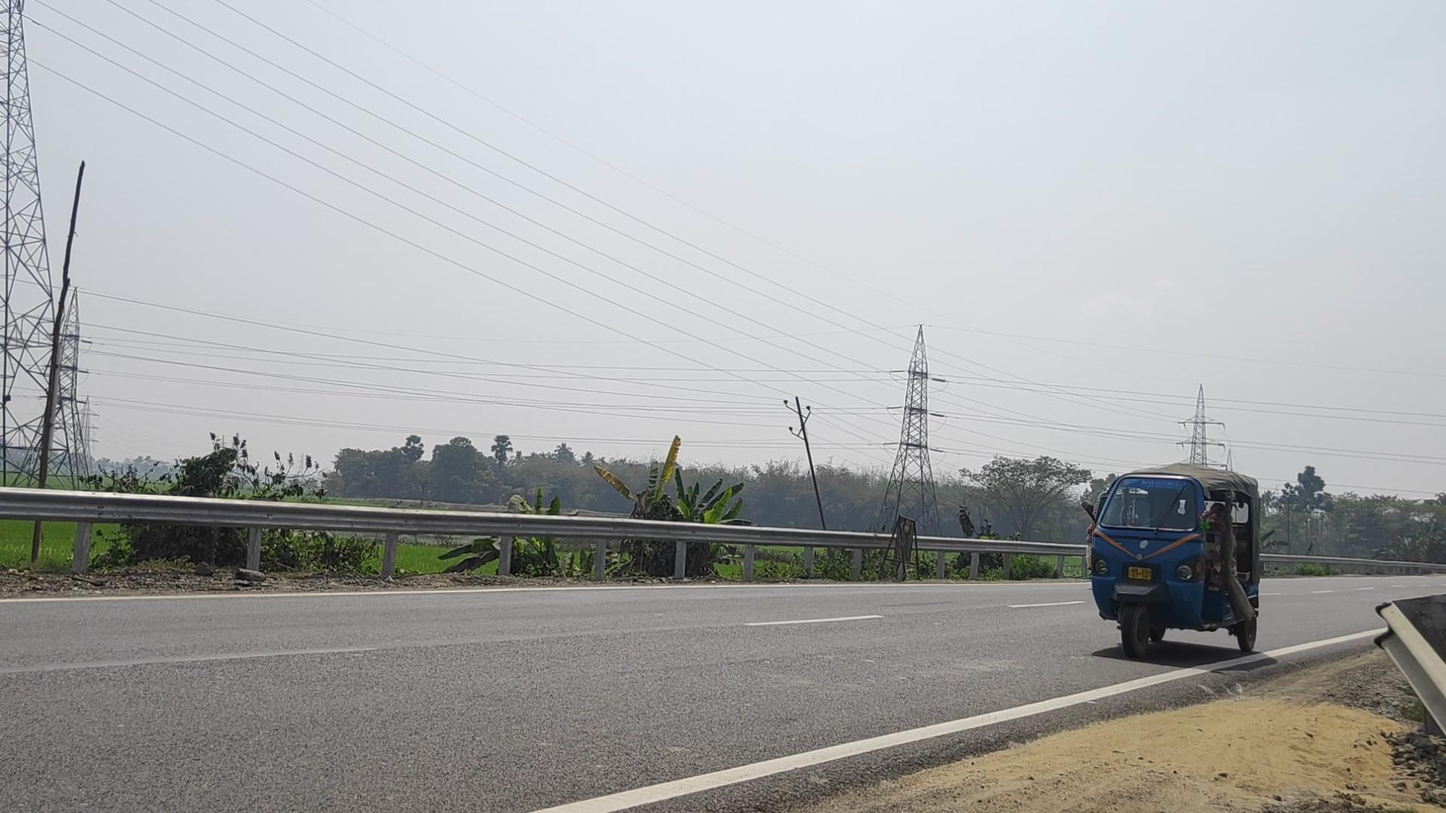Auto: (1081, 463, 1261, 659)
